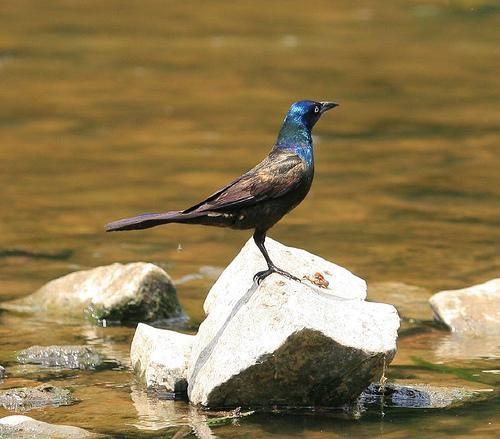009.Brewer_Blackbird: (100, 99, 341, 288)
